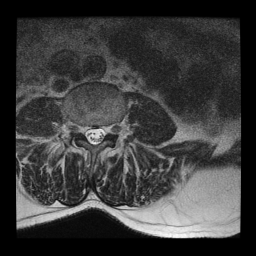CCS_normal: (91, 118, 97, 151)
LFS_normal: (105, 116, 112, 140)
LLS_normal: (97, 119, 105, 145)
RFS_normal: (77, 117, 84, 140)
RLS_normal: (84, 119, 91, 146)
